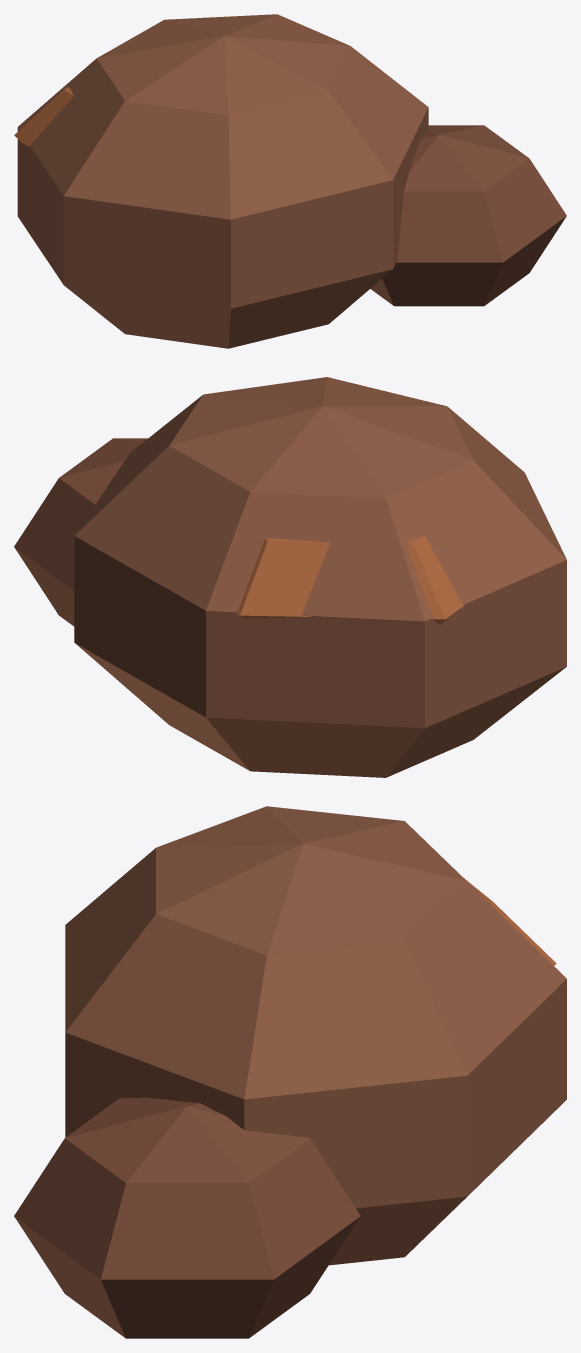
File: a2f_red_rock.glb
3 views of the same model, one above another, from view 1: azimuth 30°, elevation 25°; view 2: azimuth 150°, elevation 25°; view 3: azimuth 270°, elevation 25° (orthographic). The views are drawn at different scales.
Visible parts, largest first — view 1: a2f_red_rock; view 2: a2f_red_rock; view 3: a2f_red_rock.
Part boxes in pixels (<box>): a2f_red_rock: <box>14,14,566,348</box>; a2f_red_rock: <box>14,377,566,777</box>; a2f_red_rock: <box>14,806,566,1338</box>.
Bounding box in the file's own units: 1.83 × 1.12 × 1.43.
